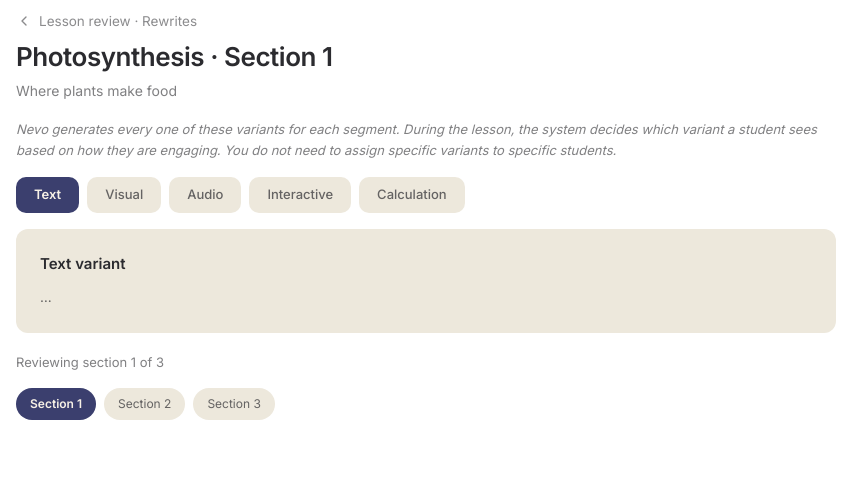
Test case: the interactive version, as an activity › does not throw on an activity with no materials, or on fields the server left out
Click the tab "Interactive". click: (300, 195)
box: [249, 177, 351, 213]
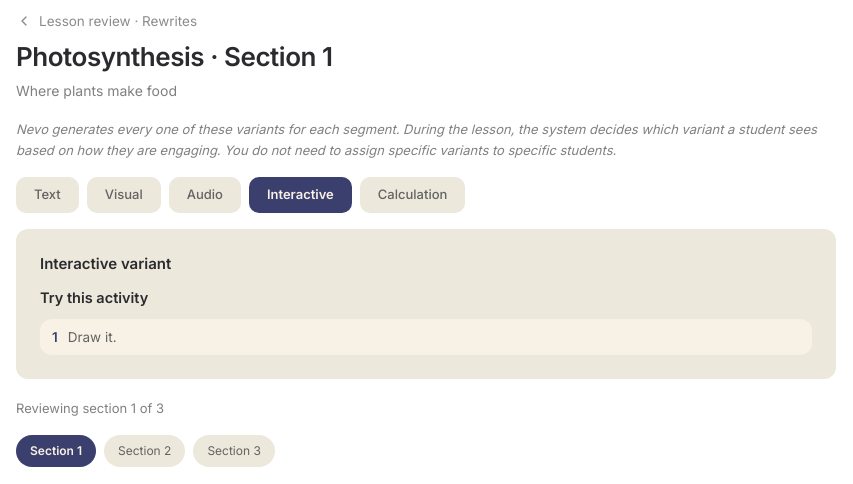
Expected: the text "Draw it." is shown, [68, 327, 116, 347]
